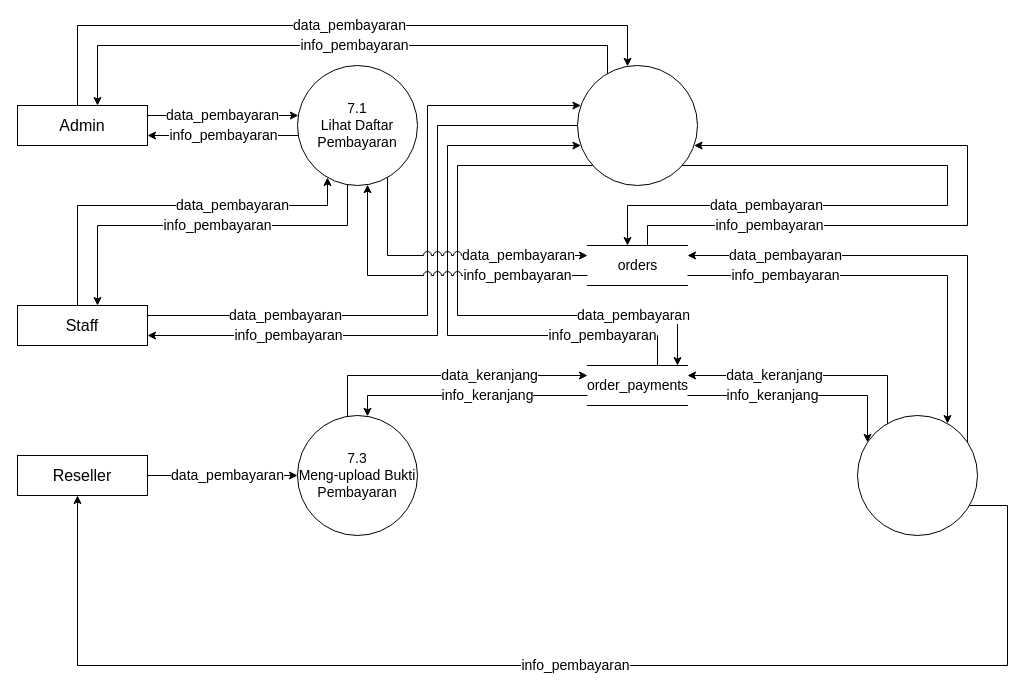
Some shapes in this 1033 by 691 pixel diagram are drawn without their labels. The box of each missing label's shape, as (x1, y1, x2, y2) in pixels:
5.5 Mengajukan Pesanan: (856, 414, 978, 536)
7.2 Verifikasi Pembayaran: (576, 64, 698, 186)
